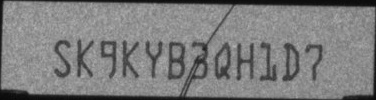1: (259, 41, 277, 81)
3: (190, 41, 207, 79)
7: (305, 43, 324, 80)
9: (100, 39, 117, 79)
B: (168, 41, 186, 79)
D: (282, 41, 301, 81)
H: (236, 41, 255, 80)
K: (121, 40, 141, 79), (76, 38, 94, 78)
Q: (214, 41, 232, 80)
S: (54, 39, 72, 78)
Y: (146, 40, 163, 78)
